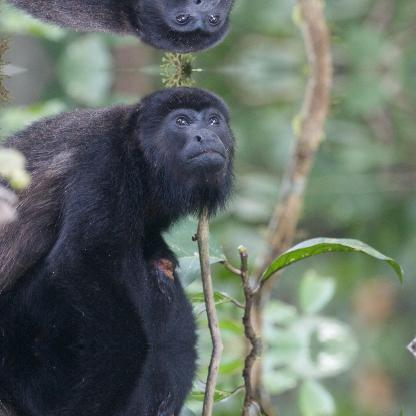Monkey: (2, 83, 242, 344), (2, 347, 243, 415), (2, 0, 243, 55)
